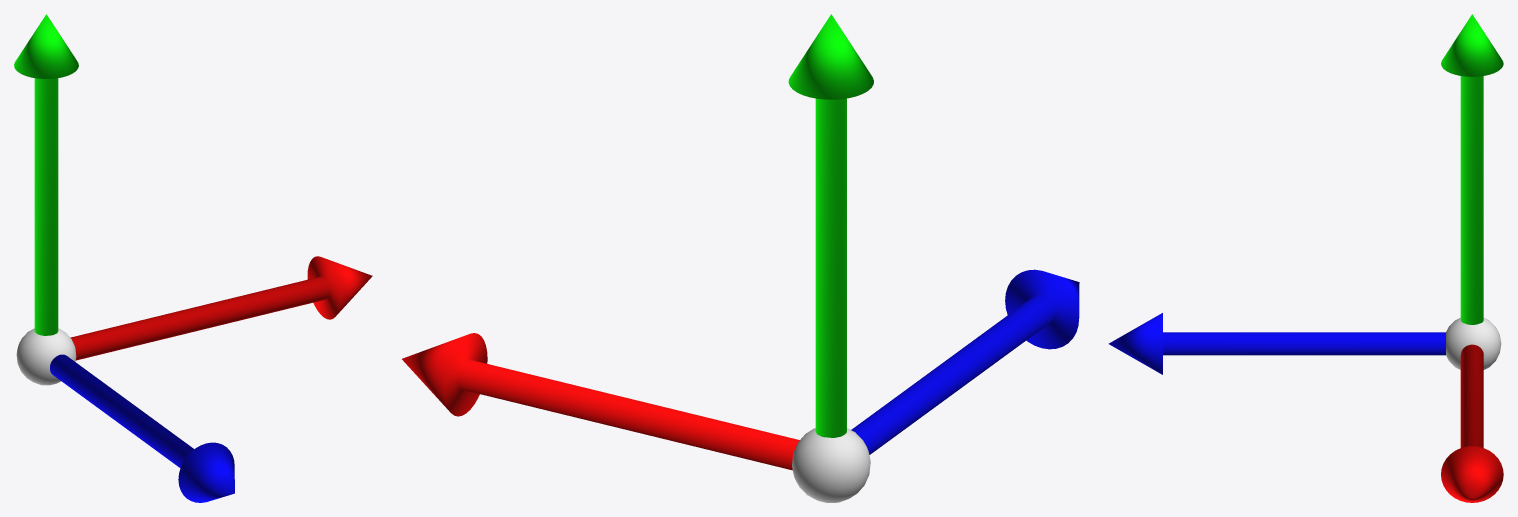
Rendered from Transform Controls.fbx.
3 views of the same model, side by side, from view 1: azimuth 30°, elevation 25°; view 2: azimuth 150°, elevation 25°; view 3: azimuth 270°, elevation 25° (orthographic). The views are drawn at different scales.
Parts seen in each view (by area): view 1: UP, LEFT, FORWARD, Center; view 2: UP, LEFT, FORWARD, Center; view 3: FORWARD, UP, LEFT, Center.
Boxes of the visible parts, box(x1,y1,x2,y2) form: UP: box(14, 14, 78, 335); LEFT: box(70, 256, 372, 360); FORWARD: box(50, 354, 234, 502); Center: box(16, 328, 76, 385); UP: box(788, 14, 873, 437); LEFT: box(402, 333, 799, 470); FORWARD: box(851, 269, 1079, 454); Center: box(792, 428, 870, 502); FORWARD: box(1108, 313, 1445, 374); UP: box(1441, 14, 1503, 324); LEFT: box(1441, 344, 1503, 502); Center: box(1446, 318, 1501, 369).
Size of the model in its own units: 1.09 by 1.09 by 1.09.
